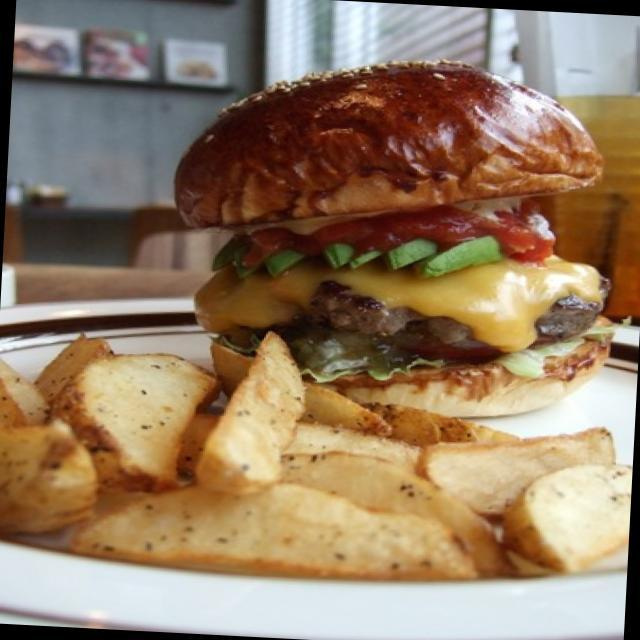Hamburger: (155, 47, 618, 419)
